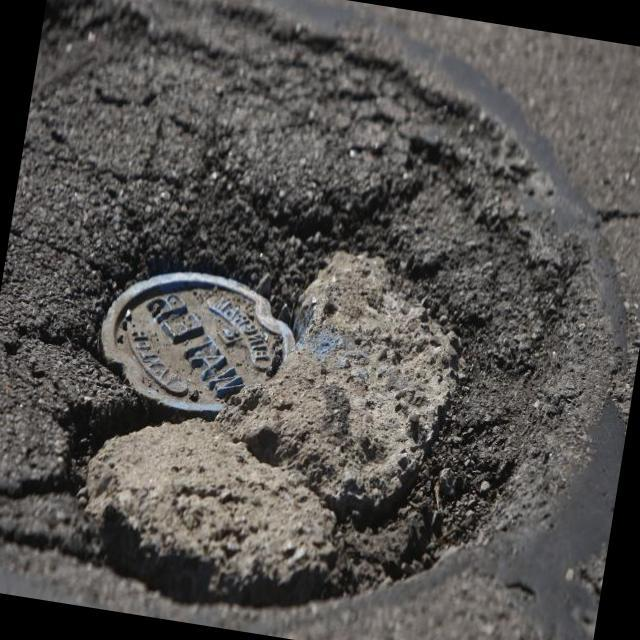Pothole: (0, 0, 626, 610)
